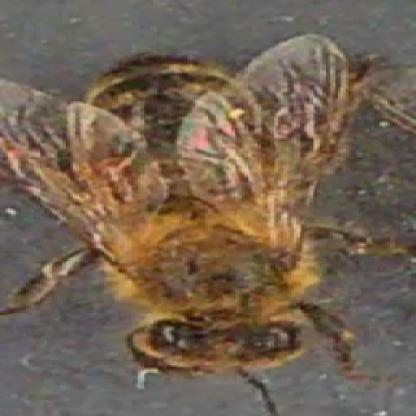bee: (31, 52, 373, 382)
